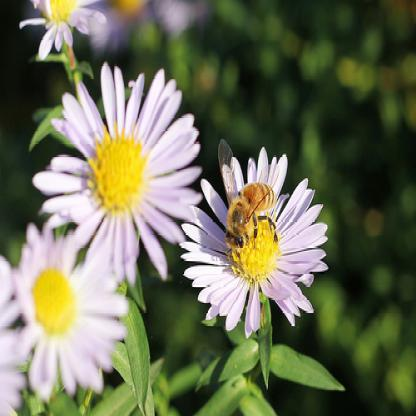ASTER: (12, 19, 343, 396)
